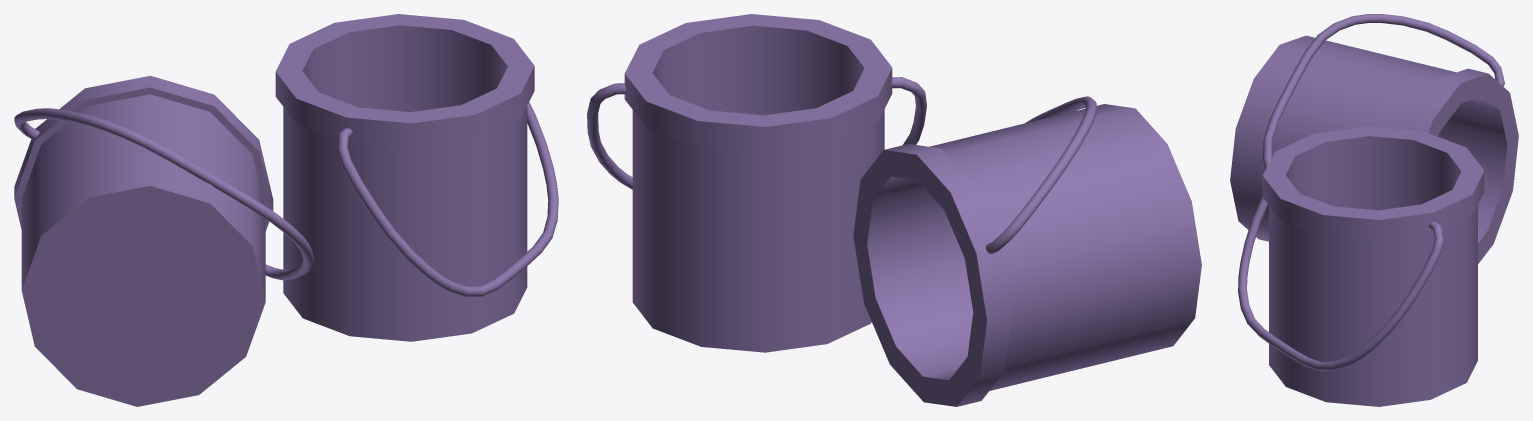
Rendered from Paint_Buckets.fbx.
The picture shows the model from 3 angles, left to right: view 1: azimuth 30°, elevation 25°; view 2: azimuth 150°, elevation 25°; view 3: azimuth 270°, elevation 25°; orthographic projection. The views are drawn at different scales.
Parts seen in each view (by area): view 1: pb_02 (×2), pb_03 (×2), pb_01 (×2); view 2: pb_02 (×2), pb_03 (×2), pb_01 (×2); view 3: pb_02 (×2), pb_03 (×2), pb_01 (×2).
Part boxes in pixels (x1,y1,x2,y2): pb_02 (×2): (14, 14, 527, 406); pb_03 (×2): (15, 17, 534, 406); pb_01 (×2): (14, 102, 558, 296); pb_02 (×2): (624, 14, 1201, 406); pb_03 (×2): (630, 14, 1201, 406); pb_01 (×2): (587, 77, 1096, 253); pb_02 (×2): (1230, 35, 1518, 406); pb_03 (×2): (1247, 75, 1518, 399); pb_01 (×2): (1238, 14, 1504, 371).
Bounding box in the file's own units: 89.02 × 40.05 × 46.96.
